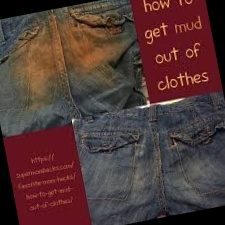earth: (61, 19, 116, 69), (18, 27, 64, 80)
